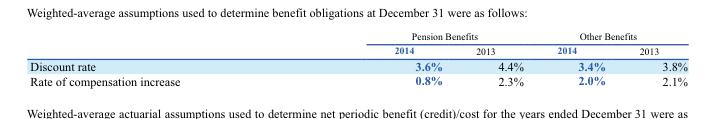table: (29, 29, 687, 88)
table column: (29, 29, 286, 88), (286, 29, 458, 88), (539, 29, 621, 88), (458, 29, 539, 88), (621, 29, 687, 88)
table column header: (29, 29, 687, 56)
table row: (29, 56, 687, 72), (29, 72, 687, 88), (29, 42, 687, 56), (29, 29, 687, 42)
table spanning cell: (286, 29, 539, 42), (539, 29, 687, 42)
